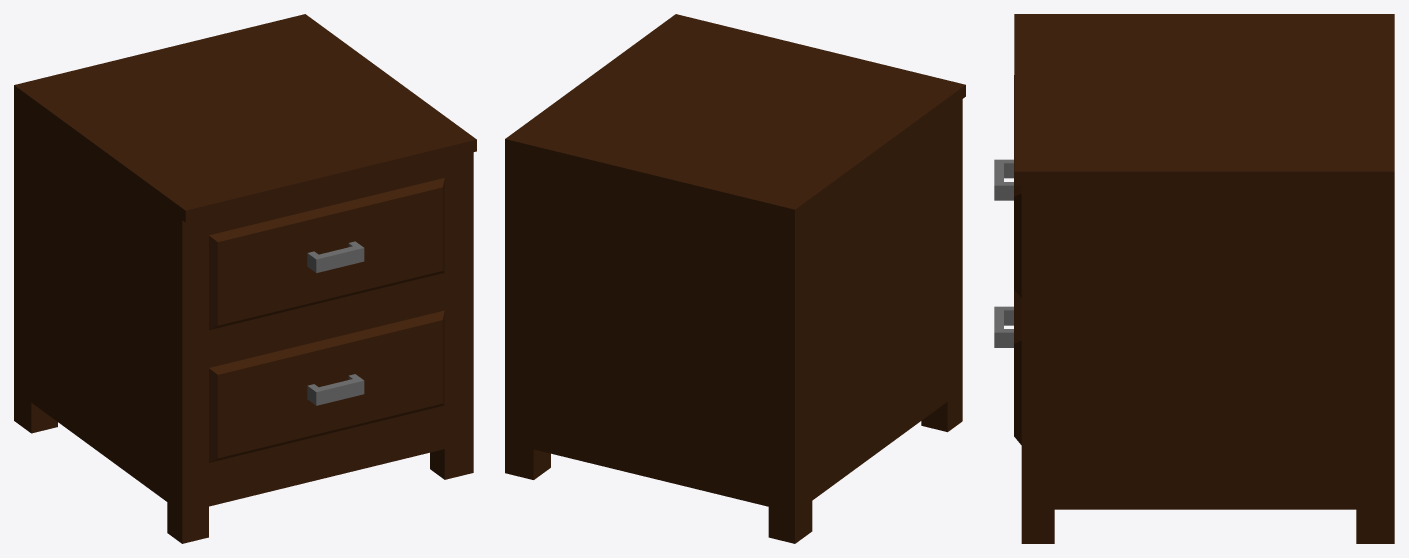
Rendered from MesitaDeLuzV3.fbx.
3 views of the same model, side by side, from view 1: azimuth 30°, elevation 25°; view 2: azimuth 150°, elevation 25°; view 3: azimuth 270°, elevation 25° (orthographic). The views are drawn at different scales.
Visible parts, largest first — view 1: MesitaDeLuz, Cajon.001, Cajon; view 2: MesitaDeLuz; view 3: MesitaDeLuz, Cajon.001, Cajon.
Boxes of the visible parts, x1,y1,x2,y2 form: MesitaDeLuz: (14, 14, 476, 543); Cajon.001: (209, 310, 444, 462); Cajon: (209, 178, 444, 330); MesitaDeLuz: (505, 14, 965, 543); MesitaDeLuz: (1014, 14, 1394, 543); Cajon.001: (994, 289, 1021, 444); Cajon: (994, 75, 1021, 297).
Size of the model in its own units: 200 by 220 by 215.
